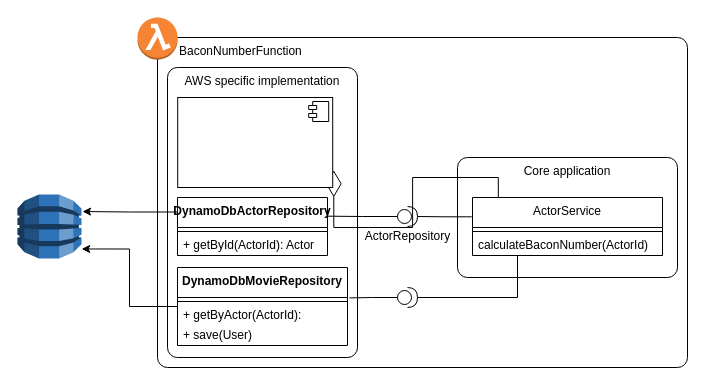
This 705x385 diagram has some shape labels left out. Here are the shapes that lost their labels. From the top down, the centre of each, then its label:
point 255,142: LambdaApplication invoke(LambdaContext): int
point 49,226: DynamoDB
point 407,297: MovieRepository
